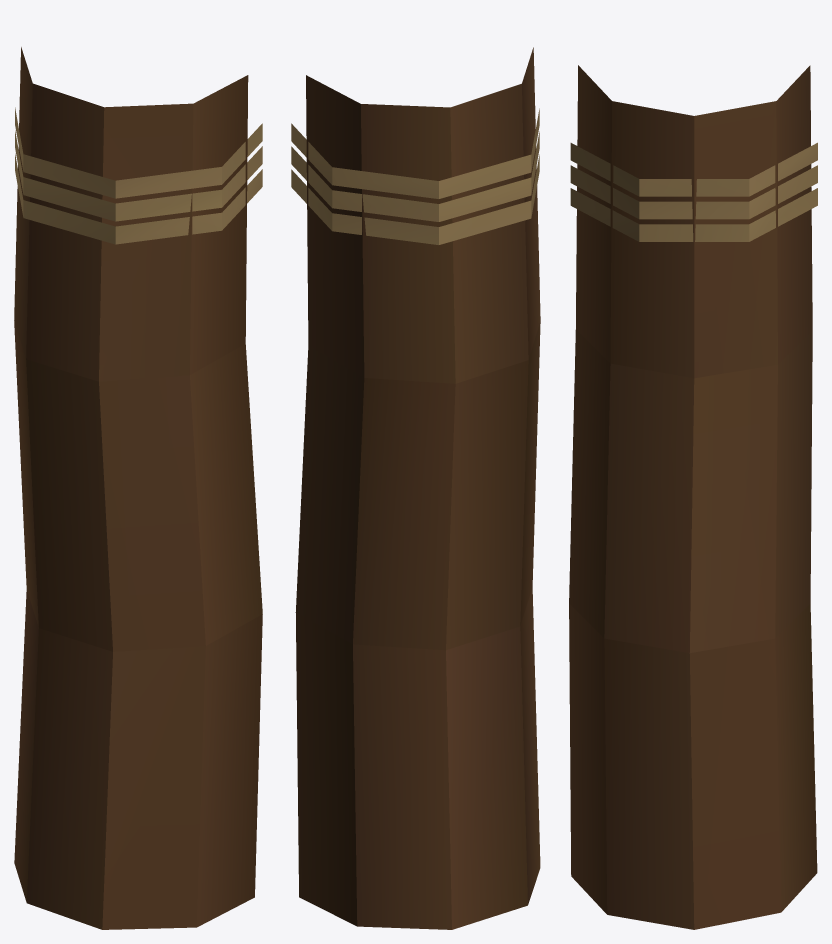
Rendered from post.glb.
3 renders of one model, left to right at view 1: azimuth 30°, elevation 25°; view 2: azimuth 150°, elevation 25°; view 3: azimuth 270°, elevation 25°, orthographic.
Visible parts, largest first — view 1: b_post_solid; view 2: b_post_solid; view 3: b_post_solid.
Boxes of the visible parts, <box> form: b_post_solid: <box>14,47,262,929</box>; b_post_solid: <box>291,47,540,929</box>; b_post_solid: <box>569,65,817,929</box>.
Bounding box in the file's own units: 0.2872 × 1.01 × 0.2786.
